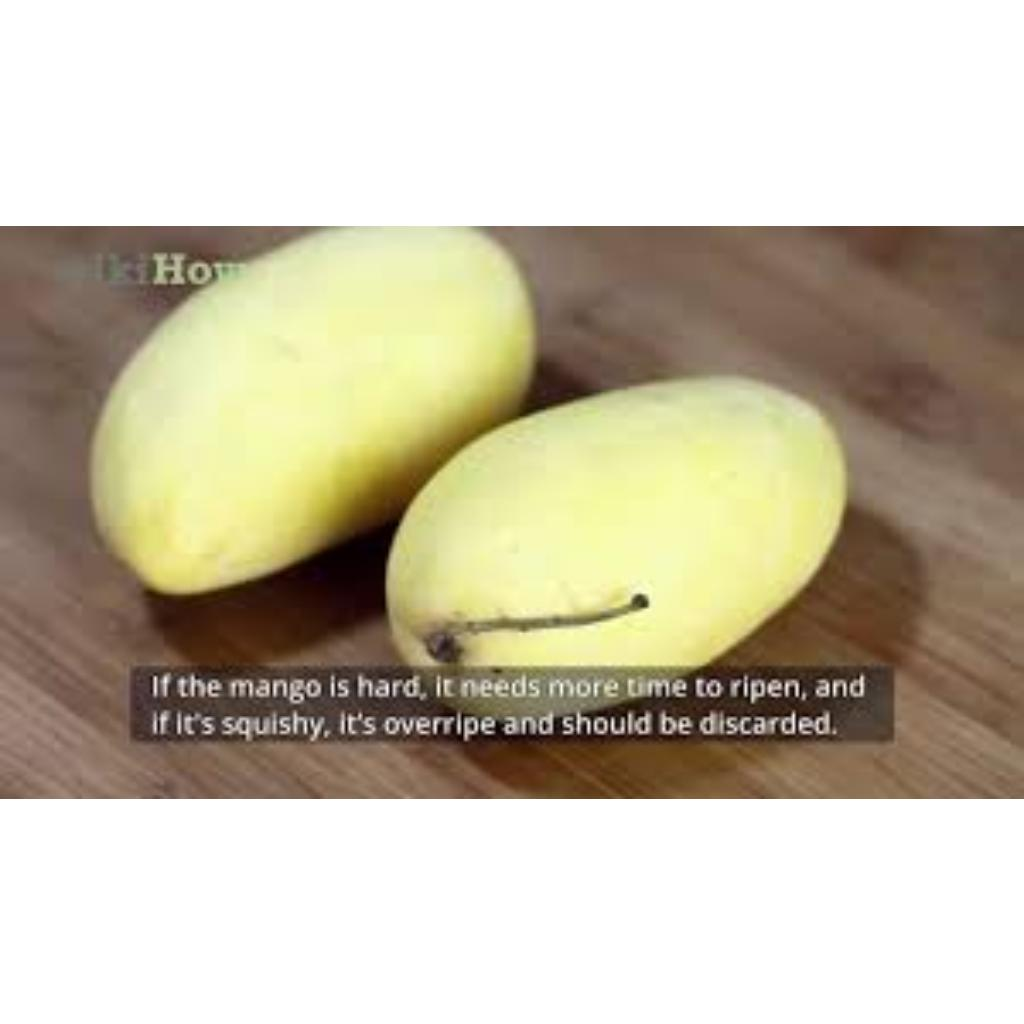mango: (82, 225, 557, 590), (382, 375, 850, 672)
